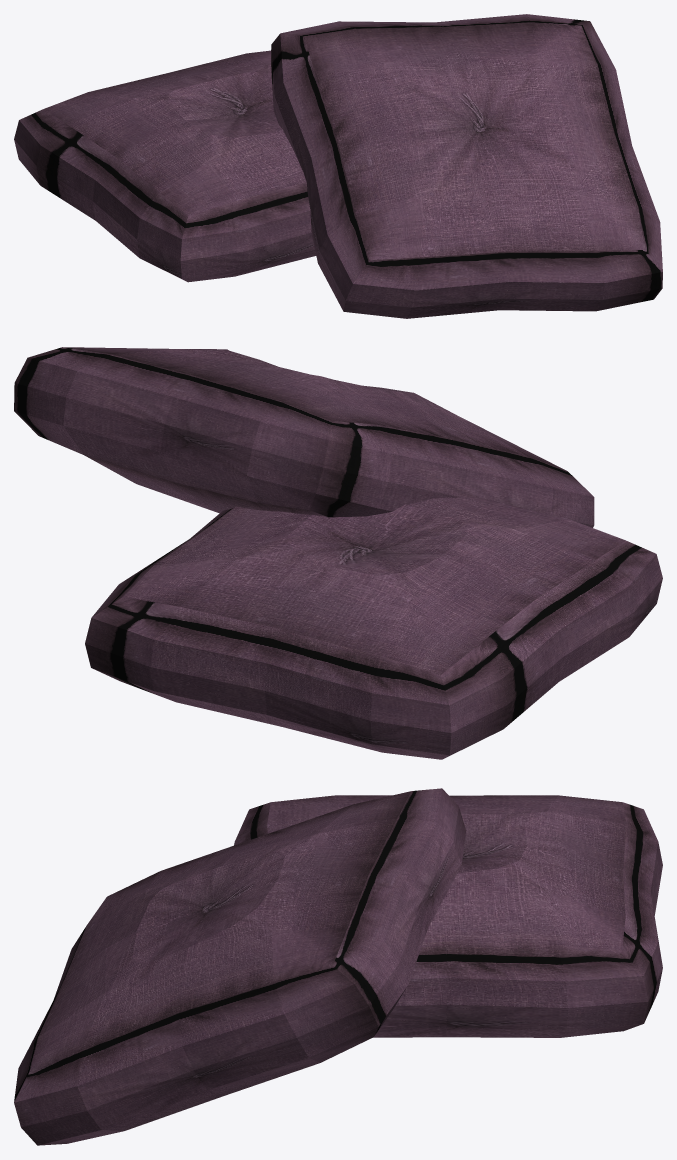
Rendered from zabuton.fbx.
3 renders of one model, top to bottom at view 1: azimuth 30°, elevation 25°; view 2: azimuth 150°, elevation 25°; view 3: azimuth 270°, elevation 25°, orthographic. The views are drawn at different scales.
Visible parts, largest first — view 1: Cube; view 2: Cube; view 3: Cube.
Boxes of the visible parts, x1,y1,x2,y2 form: Cube: (14,14,662,318); Cube: (14,347,662,759); Cube: (14,788,662,1145).
Bounding box in the file's own units: 35.7 × 14.69 × 35.28.
1 material, 1 textured.
